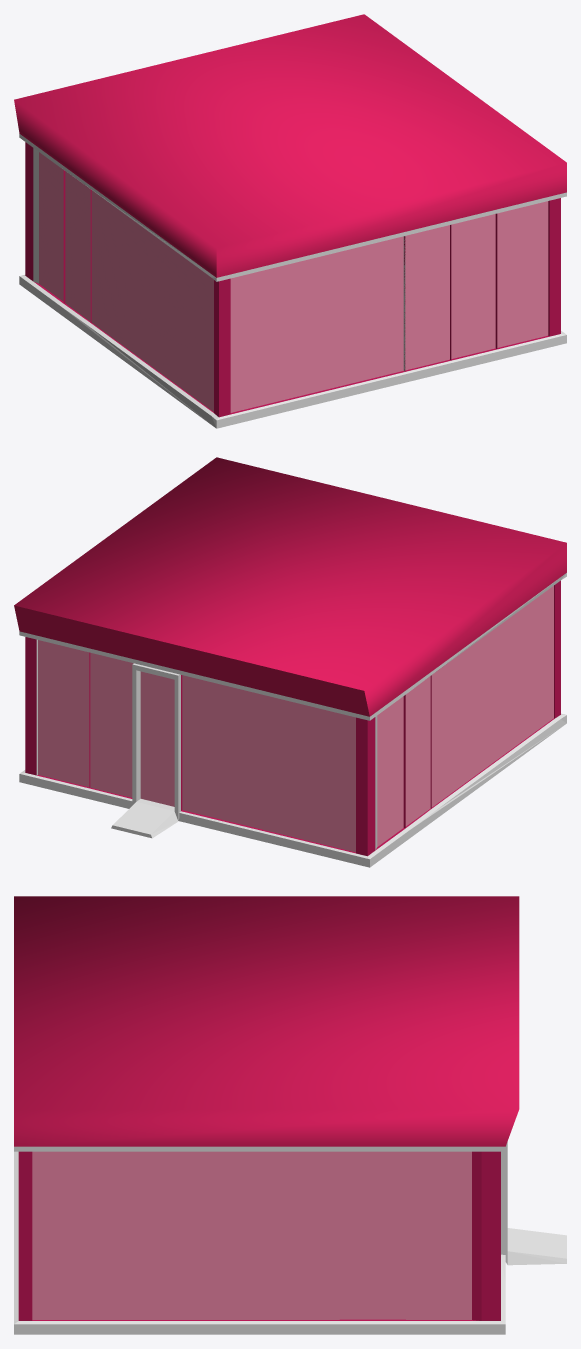
Rendered from Shop4x4x2Pink 1.fbx.
3 views of the same model, one above another, from view 1: azimuth 30°, elevation 25°; view 2: azimuth 150°, elevation 25°; view 3: azimuth 270°, elevation 25° (orthographic). The views are drawn at different scales.
Visible parts, largest first — view 1: Shop.001; view 2: Shop.001; view 3: Shop.001.
Part boxes in pixels (left/top/right/bottom): Shop.001: left=14, top=14, right=566, bottom=428; Shop.001: left=14, top=457, right=566, bottom=867; Shop.001: left=14, top=896, right=566, bottom=1334.
Size of the model in its own units: 4.02 by 1.98 by 4.4.
1 material, 1 textured.
